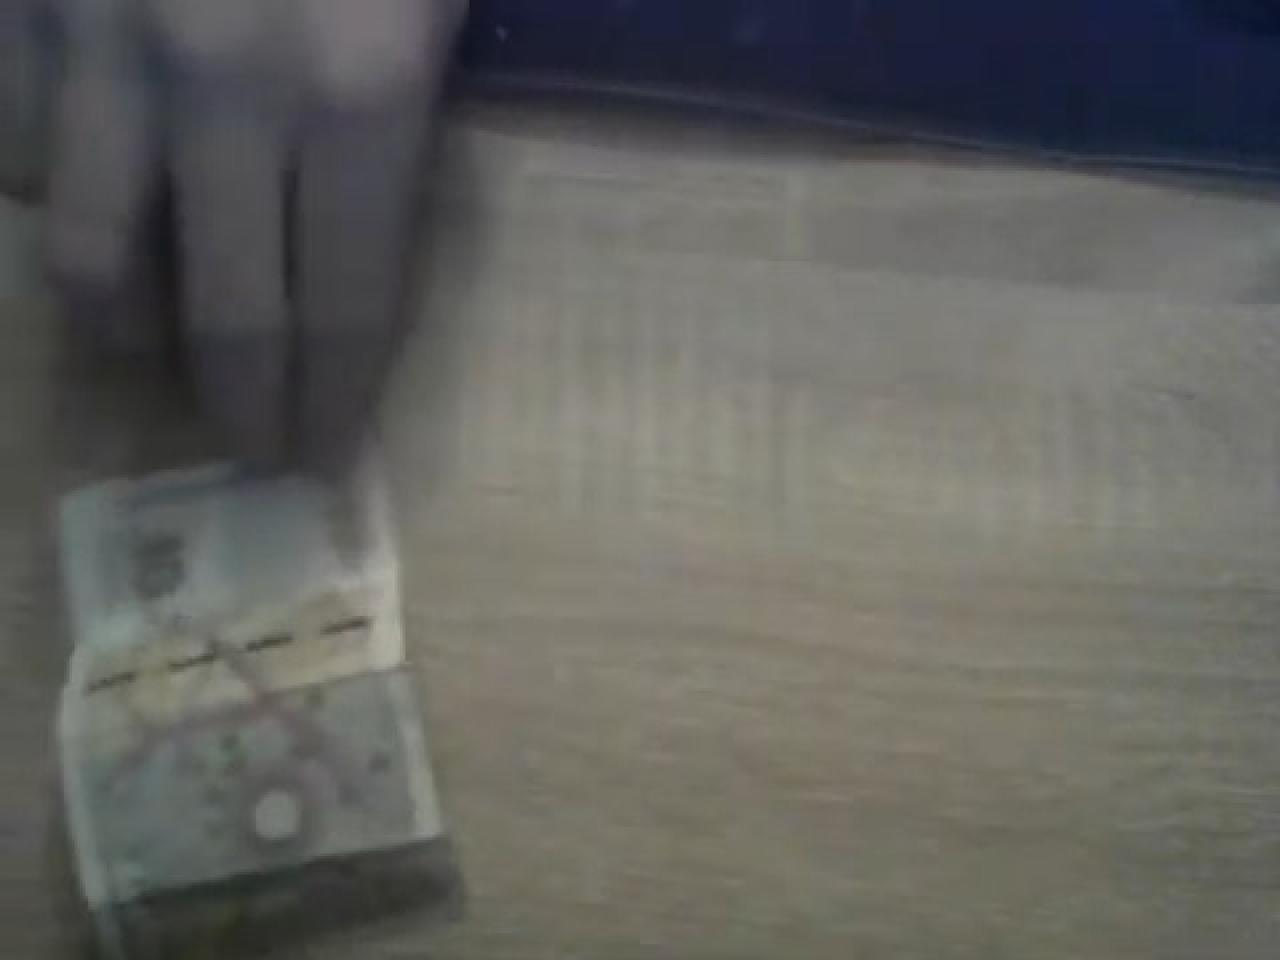10leva: (48, 435, 462, 960)
